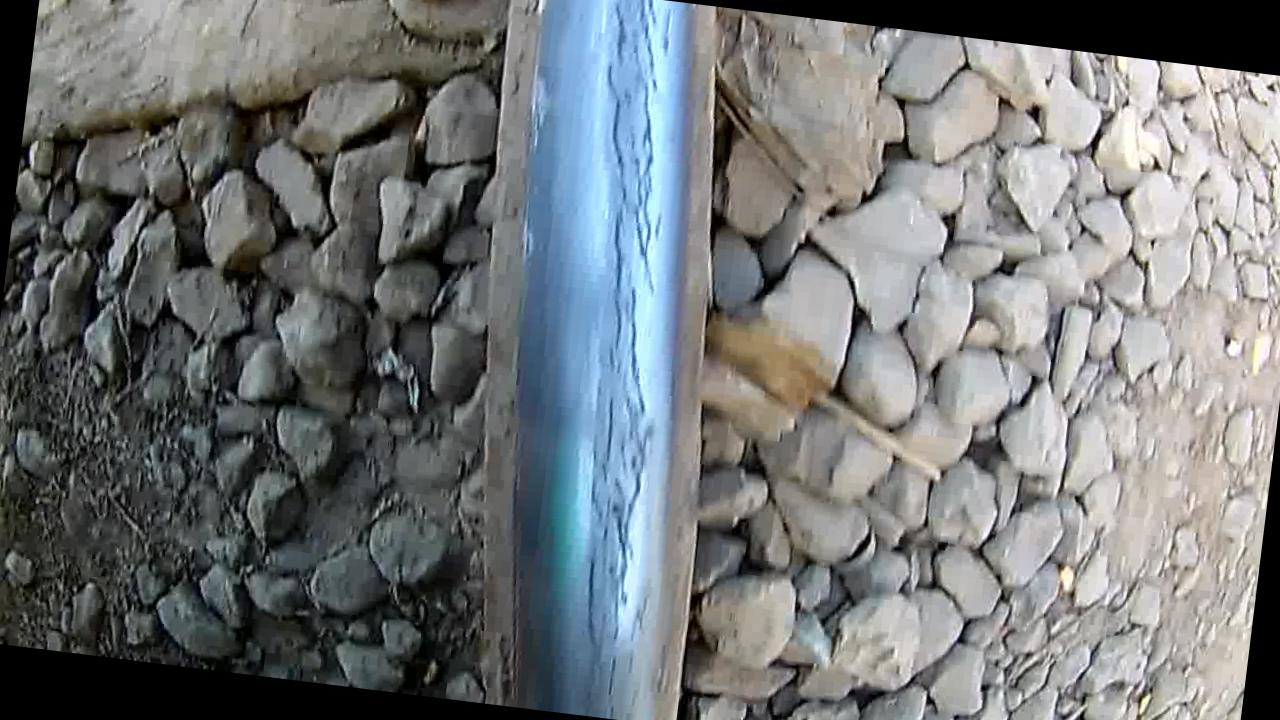normal_track: (528, 0, 711, 716)
